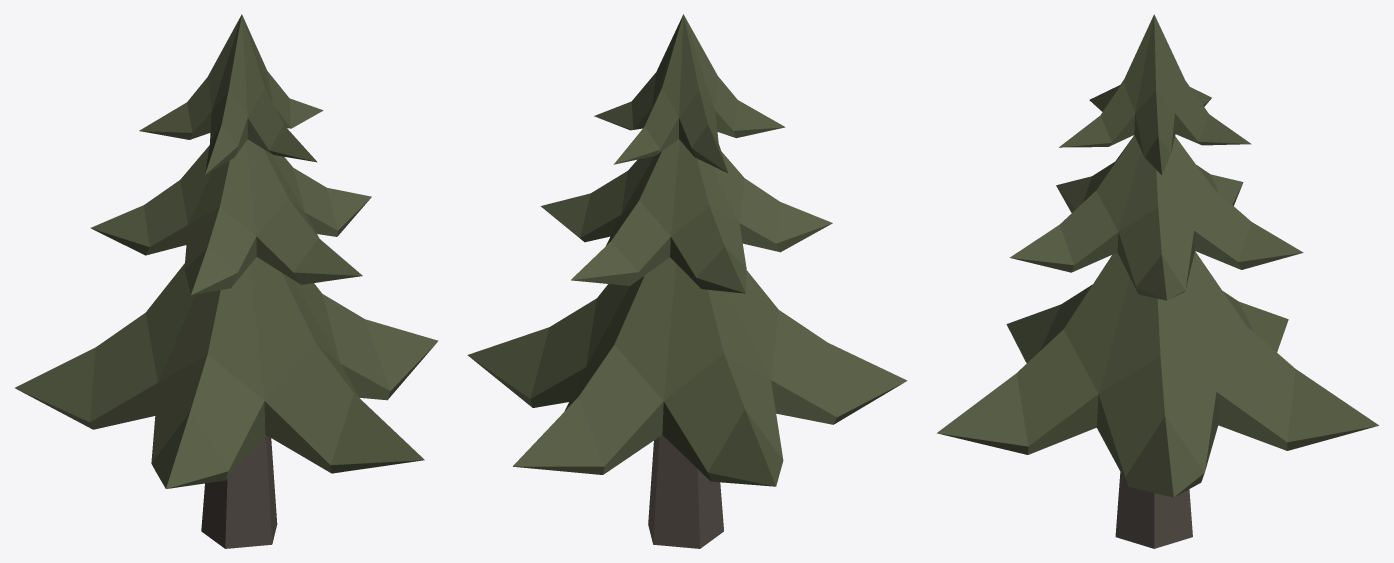
Rendered from Pine1.fbx.
3 views of the same model, side by side, from view 1: azimuth 30°, elevation 25°; view 2: azimuth 150°, elevation 25°; view 3: azimuth 270°, elevation 25° (orthographic).
Parts seen in each view (by area): view 1: Pine1; view 2: Pine1; view 3: Pine1.
Boxes of the visible parts, left/top/right/bottom form: Pine1: left=15, top=14, right=438, bottom=548; Pine1: left=467, top=14, right=907, bottom=548; Pine1: left=937, top=14, right=1378, bottom=548.
Size of the model in its own units: 10.36 by 14.02 by 10.87.
